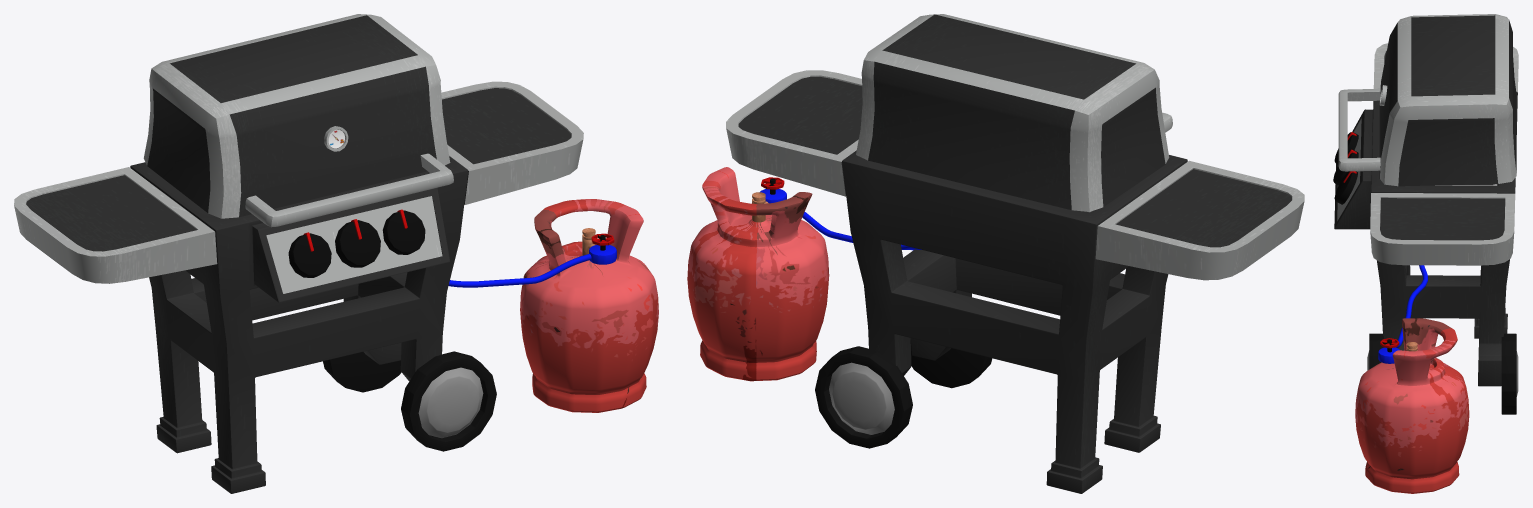
Rendered from BBQ.fbx.
The picture shows the model from 3 angles, left to right: view 1: azimuth 30°, elevation 25°; view 2: azimuth 150°, elevation 25°; view 3: azimuth 270°, elevation 25°; orthographic projection. The views are drawn at different scales.
Parts seen in each view (by area): view 1: BBQ Base, BBQ_Hood, Gas_Bottle, Wheel, Wheel001, Dial_1, Dial_005, Dial_004, Gass_Line; view 2: BBQ Base, BBQ_Hood, Gas_Bottle, Wheel001, Wheel; view 3: BBQ_Hood, BBQ Base, Gas_Bottle, Wheel001, Dial_004, Wheel, Gass_Line, Dial_1, Gas_Valve, Dial_005.
Boxes of the visible parts, x1,y1,x2,y2 form: BBQ Base: [14, 81, 583, 493]; BBQ_Hood: [143, 14, 453, 227]; Gas_Bottle: [520, 199, 658, 412]; Wheel: [401, 351, 496, 451]; Wheel001: [323, 352, 401, 392]; Dial_1: [335, 219, 380, 267]; Dial_005: [288, 232, 331, 277]; Dial_004: [382, 209, 425, 254]; Gass_Line: [448, 254, 591, 287]; BBQ Base: [726, 70, 1304, 493]; BBQ_Hood: [856, 14, 1172, 211]; Gas_Bottle: [687, 167, 829, 381]; Wheel001: [815, 346, 912, 448]; Wheel: [910, 340, 992, 388]; BBQ_Hood: [1338, 14, 1516, 186]; BBQ Base: [1334, 43, 1518, 386]; Gas_Bottle: [1355, 318, 1469, 493]; Wheel001: [1501, 333, 1518, 414]; Dial_004: [1334, 171, 1357, 204]; Wheel: [1367, 333, 1383, 370]; Gass_Line: [1395, 265, 1427, 347]; Dial_1: [1333, 149, 1358, 185]; Gas_Valve: [1378, 347, 1399, 363]; Dial_005: [1334, 132, 1358, 164].
Size of the model in its own units: 108 by 67.02 by 36.12.
Materials: 13 (5 with a texture image).
